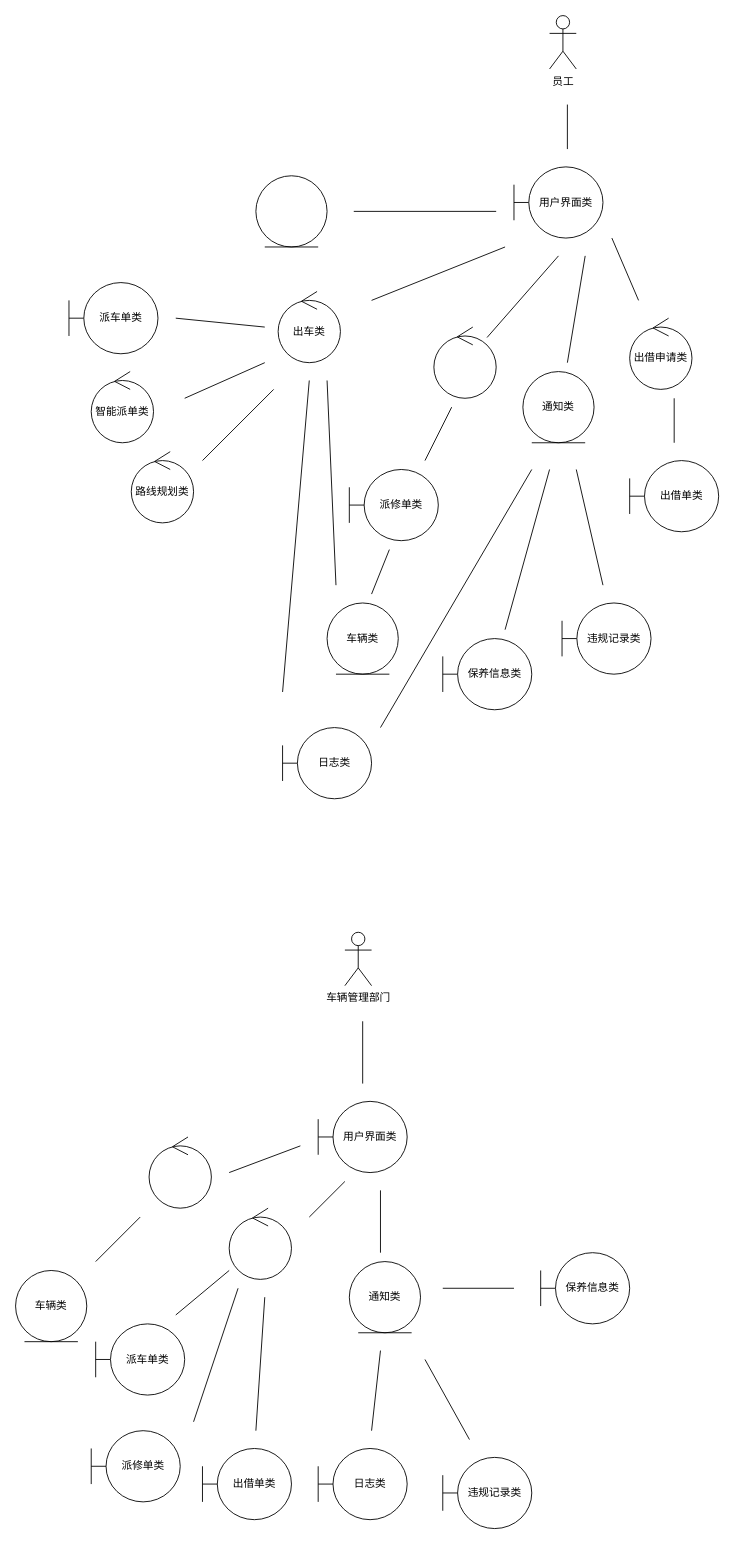
The diagram is 734 pixels wide and 1544 high, and some of its shapes have lost their labels. Each missing label, with the centre of its shape:
业务批准类: the point at 259,1243
员工类: the point at 291,211
车辆报修类: the point at 464,362
车辆管理类: the point at 179,1172
